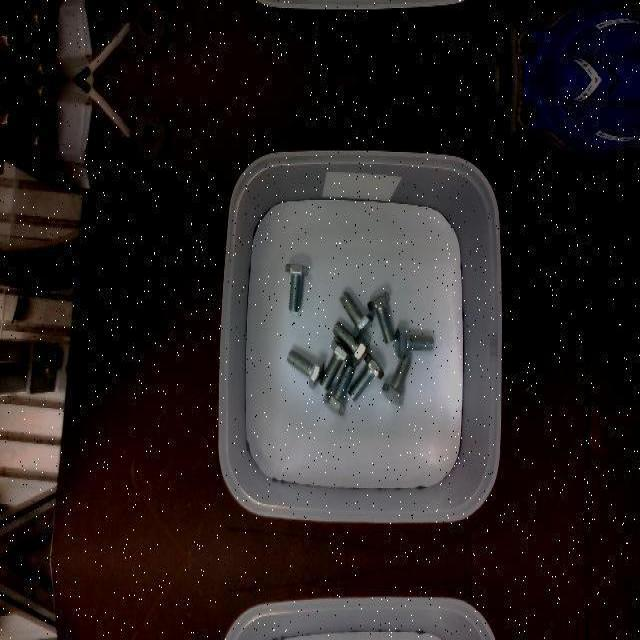screw: (347, 353, 384, 403), (332, 321, 369, 367), (338, 290, 373, 338), (322, 362, 354, 414), (286, 347, 323, 389), (320, 339, 351, 389), (368, 292, 397, 344), (382, 355, 412, 405), (394, 326, 434, 358), (285, 262, 309, 312)
